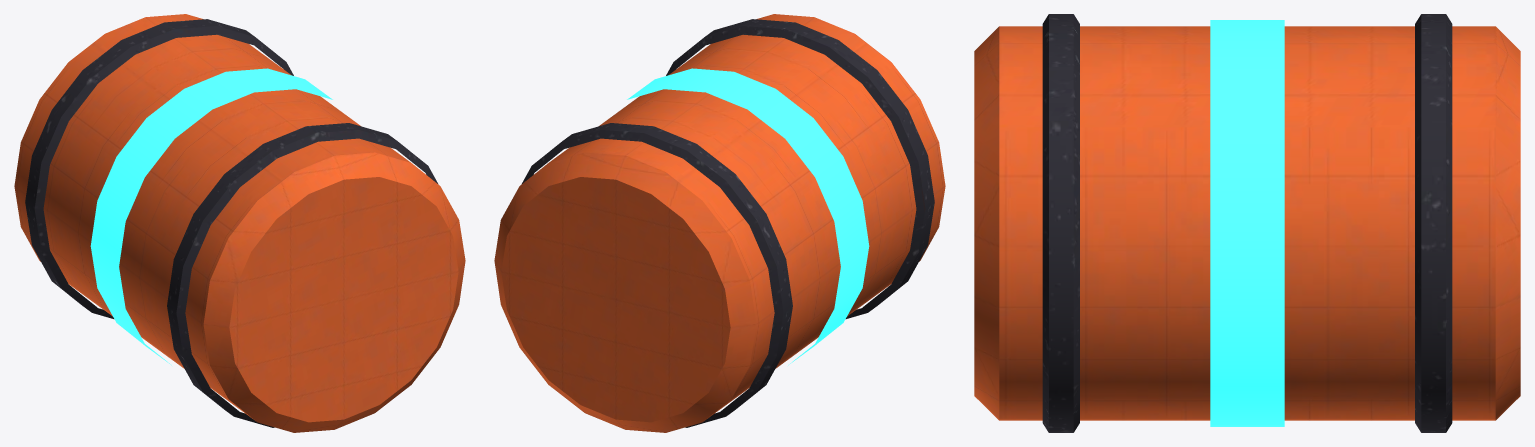
The model's file is game-canister.glb.
3 views of the same model, side by side, from view 1: azimuth 30°, elevation 25°; view 2: azimuth 150°, elevation 25°; view 3: azimuth 270°, elevation 25° (orthographic). The views are drawn at different scales.
Parts seen in each view (by area): view 1: canister; view 2: canister; view 3: canister.
Boxes of the visible parts, box(x1,y1,x2,y2) form: canister: box(14, 14, 465, 432); canister: box(494, 14, 945, 432); canister: box(974, 14, 1520, 432).
Bounding box in the file's own units: 3.4 × 3.4 × 4.4.
2 materials, 1 textured.
